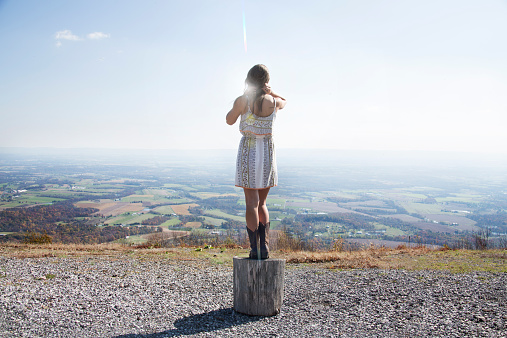em pe: (218, 53, 282, 257)
